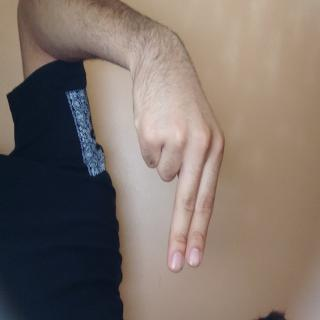AYN: (12, 120, 210, 258)
